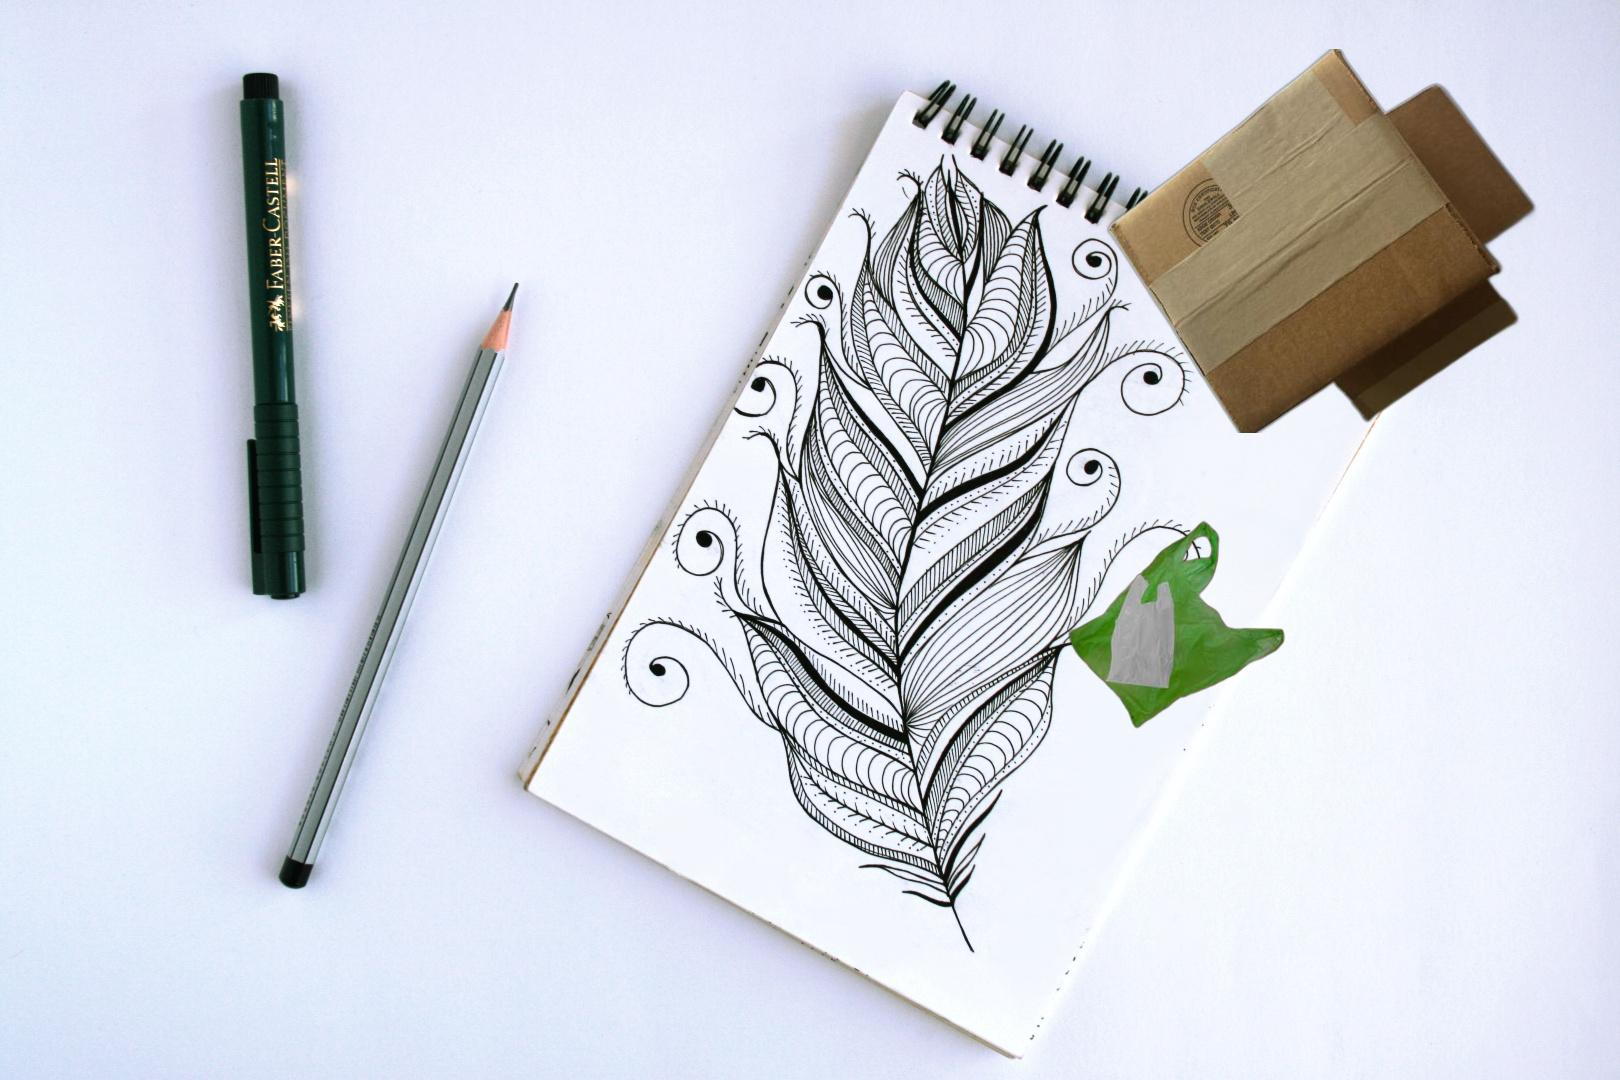plastic-bag: (1067, 520, 1286, 730)
plastic-bottles: (1472, 798, 1620, 1080)
trashbox-cardboard: (1103, 49, 1539, 433)
